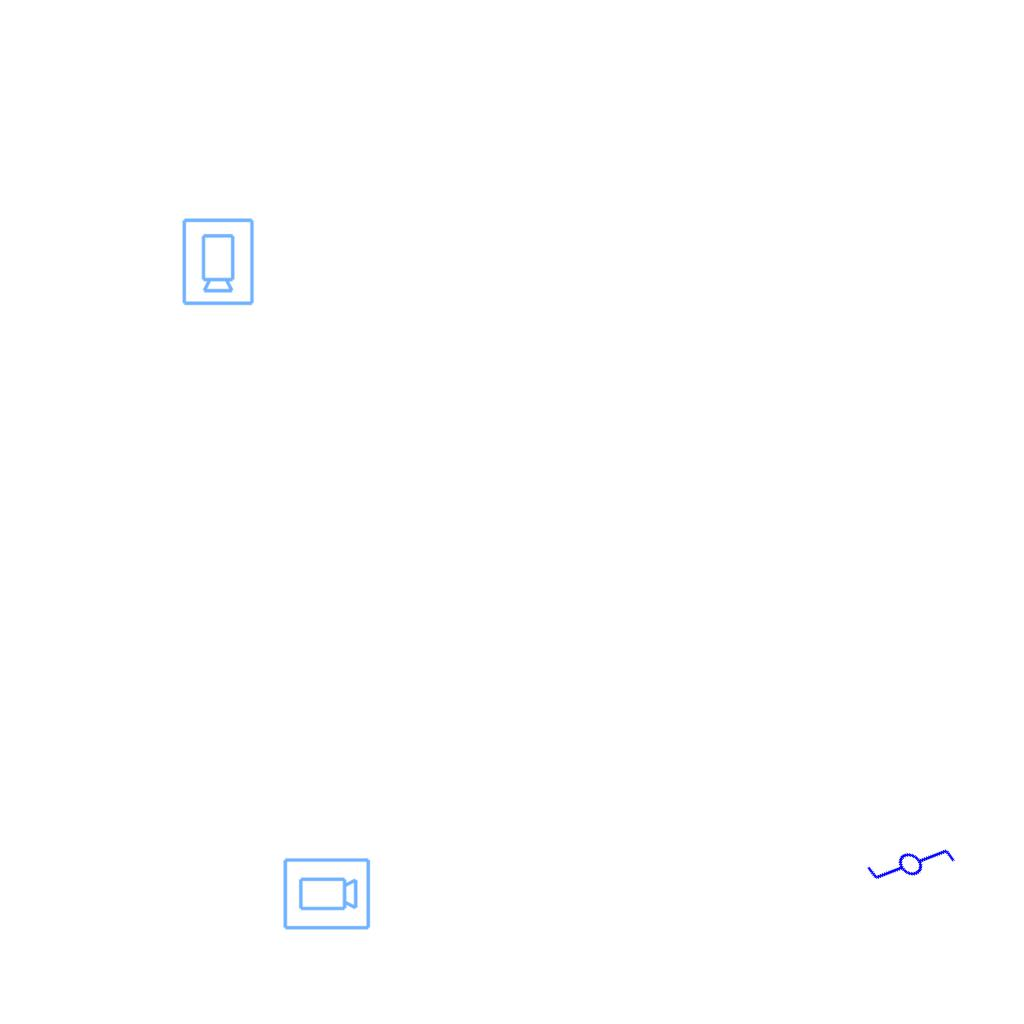KFO_Kamera_mit_Festobjektiv: (179, 216, 256, 307), (281, 856, 372, 933)
Wechselschalter: (855, 808, 961, 914)
